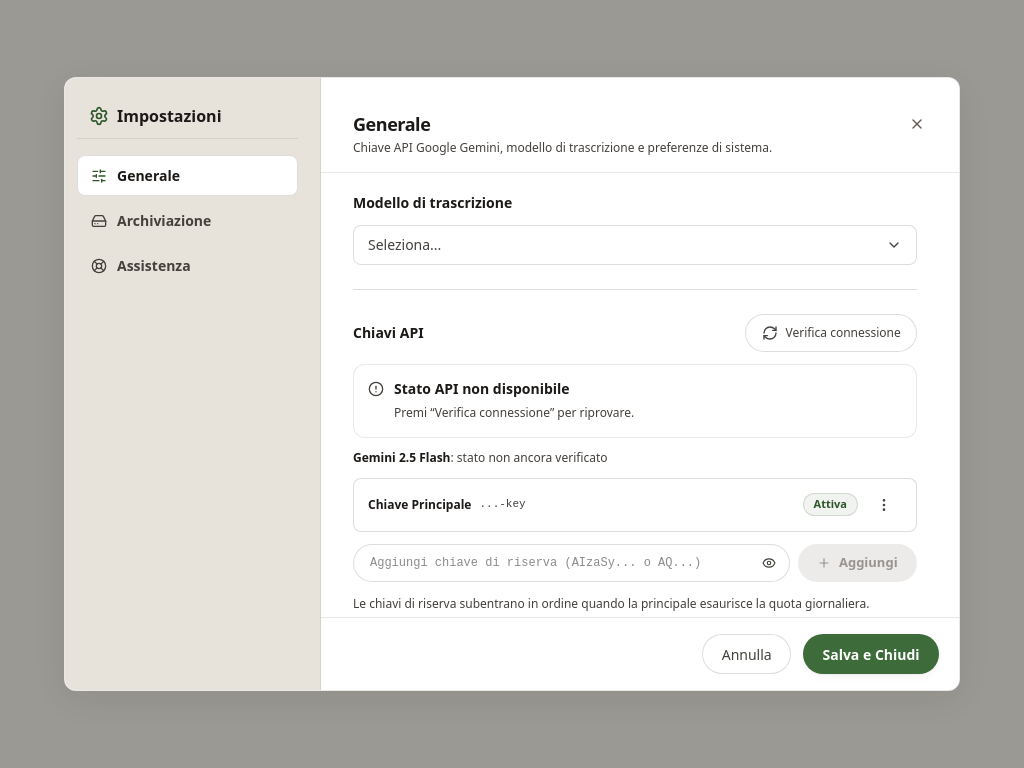
Test: SettingsModal — API usage and support tab › shows no pending check rows before the environment check runs
Click the button "Assistenza": x=188, y=265 [77,245,298,286]
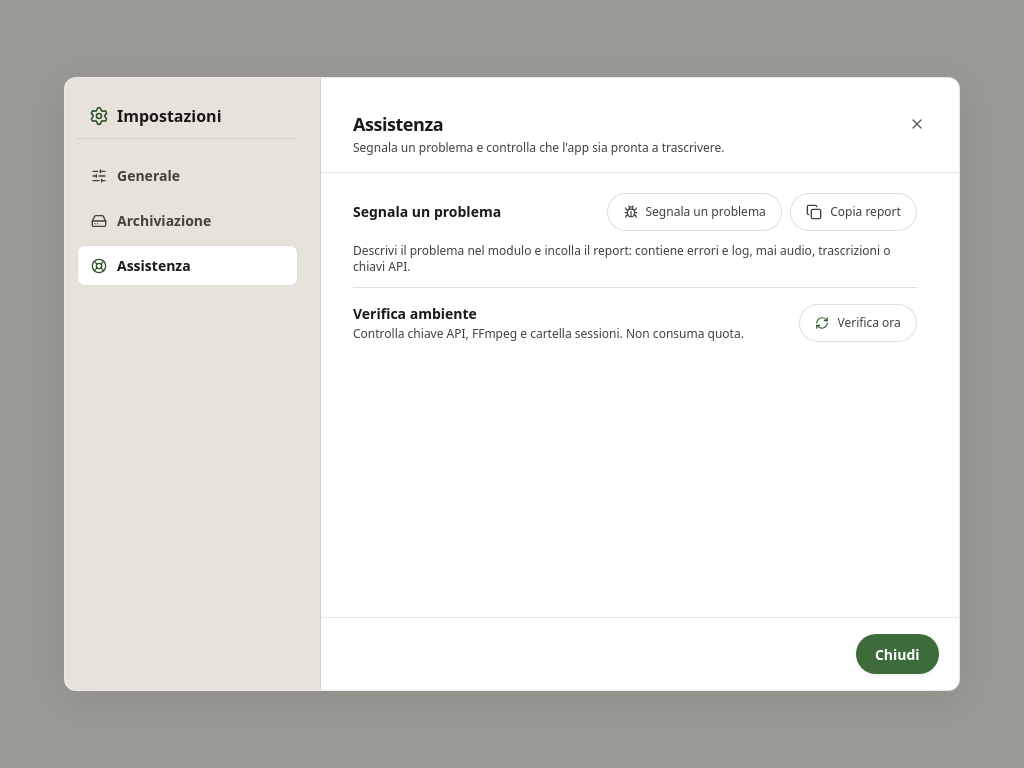
Result: the button with aria-label "Verifica ambiente" is shown at [799,304,917,342]
